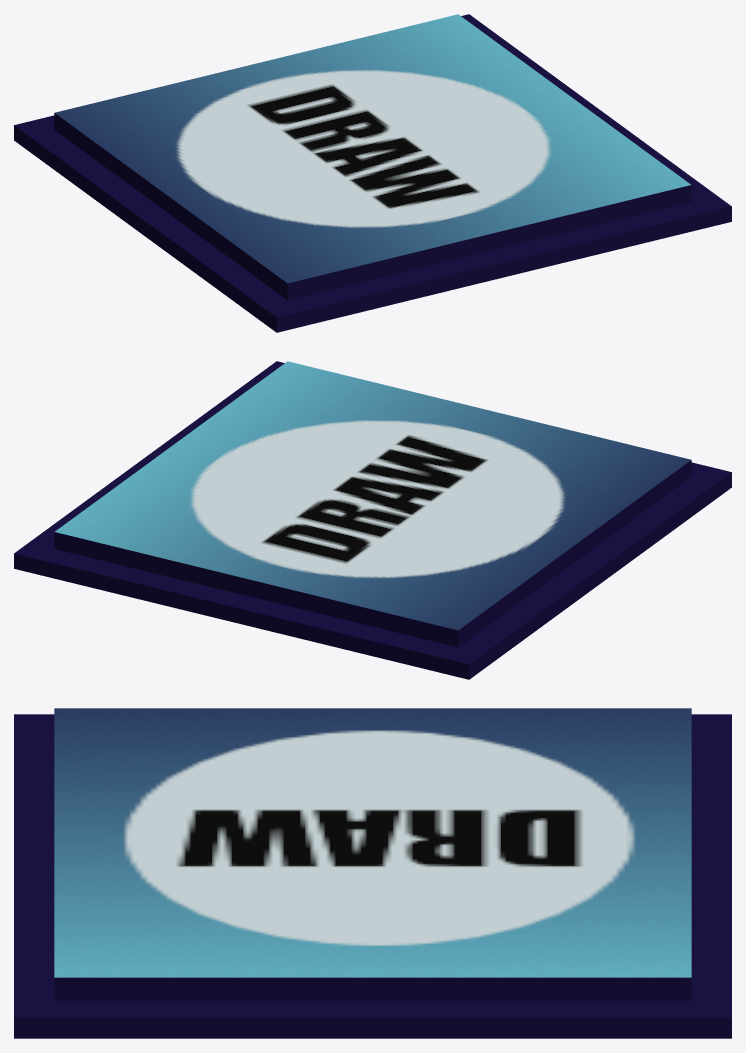
Rendered from DrawTile.fbx.
3 views of the same model, one above another, from view 1: azimuth 30°, elevation 25°; view 2: azimuth 150°, elevation 25°; view 3: azimuth 270°, elevation 25° (orthographic). The views are drawn at different scales.
Parts seen in each view (by area): view 1: DrawTile; view 2: DrawTile; view 3: DrawTile.
Boxes of the visible parts, x1,y1,x2,y2 form: DrawTile: (14, 14, 731, 332); DrawTile: (14, 361, 731, 679); DrawTile: (14, 708, 731, 1038).
Size of the model in its own units: 2 by 0.1355 by 2.
